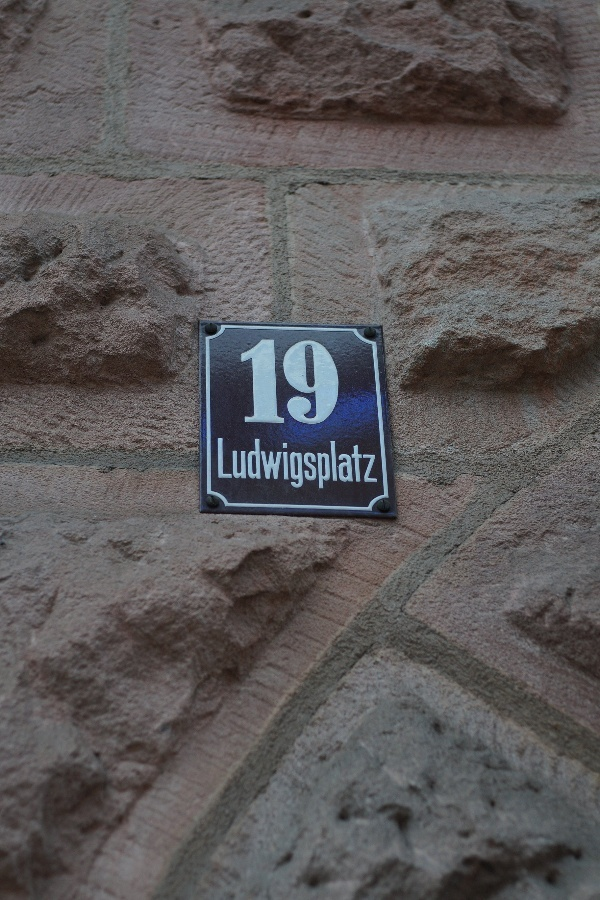text: (257, 338, 272, 426), (273, 338, 288, 426), (289, 338, 304, 426), (305, 338, 320, 426), (321, 338, 336, 426), (242, 338, 256, 426), (225, 438, 240, 489), (241, 438, 256, 489), (257, 438, 272, 489), (273, 438, 288, 489), (289, 438, 304, 489), (305, 438, 320, 489), (321, 438, 336, 489), (337, 438, 352, 489), (353, 438, 368, 489), (369, 438, 378, 489), (218, 438, 224, 489), (337, 338, 339, 426)
